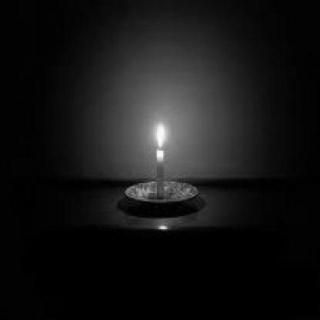Fire: (152, 117, 170, 159)
